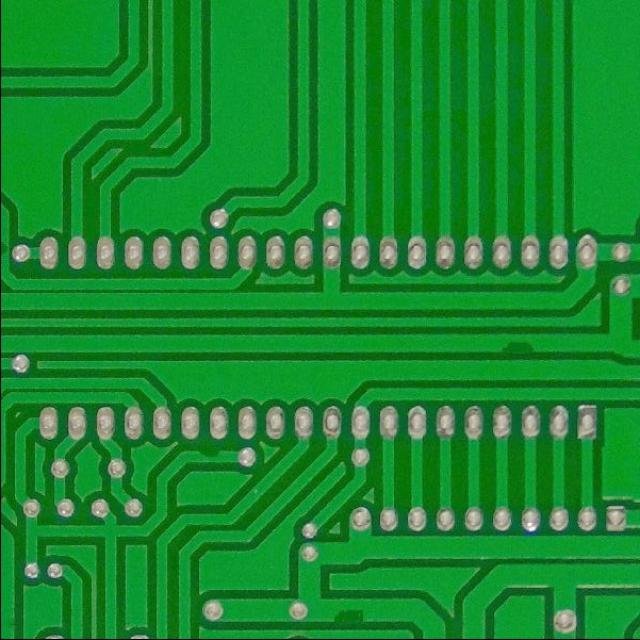MouseBite: (492, 332, 541, 357), (327, 599, 372, 626), (191, 443, 229, 465), (0, 237, 12, 259)
